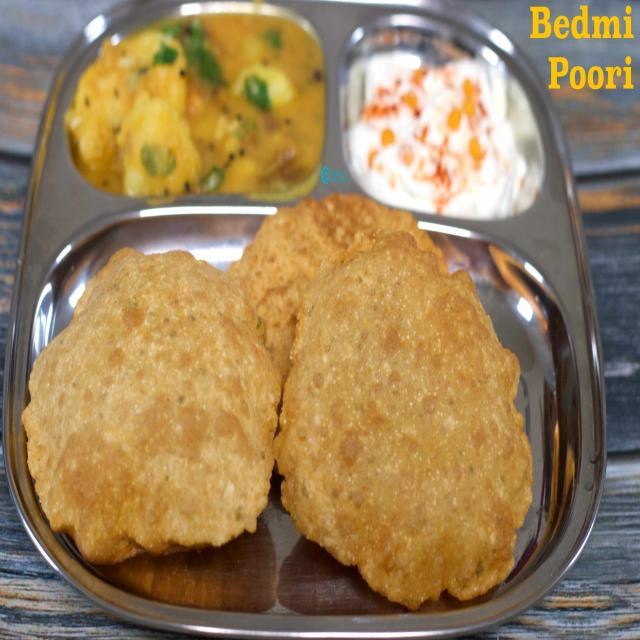potato: (90, 49, 260, 198)
puri: (48, 220, 534, 591)
